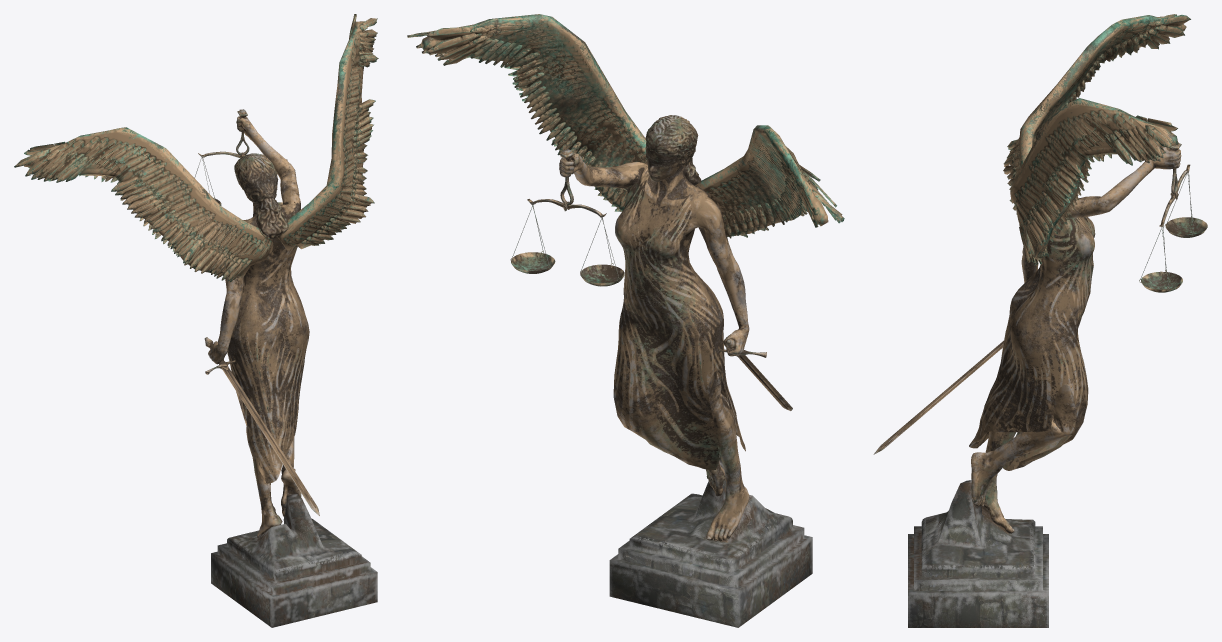
Rendered from Angel_Of_Justice_v2.fbx.
3 renders of one model, left to right at view 1: azimuth 30°, elevation 25°; view 2: azimuth 150°, elevation 25°; view 3: azimuth 270°, elevation 25°, orthographic. The views are drawn at different scales.
Parts seen in each view (by area): view 1: Angel, Wings; view 2: Angel, Wings, B_01, B_002; view 3: Angel, Wings, B_002, B_01.
Part boxes in pixels (<box>): Angel: <box>204,109,377,627</box>; Wings: <box>14,14,378,281</box>; Angel: <box>559,115,812,627</box>; Wings: <box>407,14,844,238</box>; B_01: <box>580,217,624,286</box>; B_002: <box>510,205,555,273</box>; Angel: <box>873,125,1181,627</box>; Wings: <box>1003,14,1190,265</box>; B_002: <box>1139,227,1182,292</box>; B_01: <box>1165,172,1207,237</box>.
Bounding box in the file's own units: 183 × 234 × 127.
